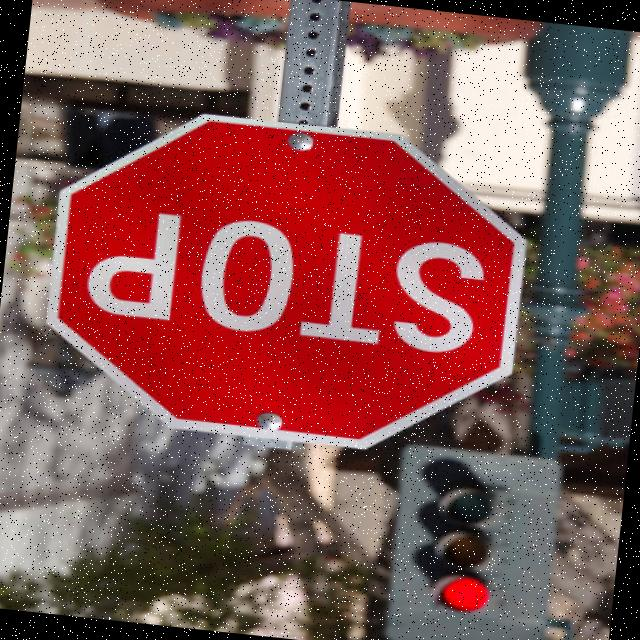stop: (4, 76, 552, 468)
